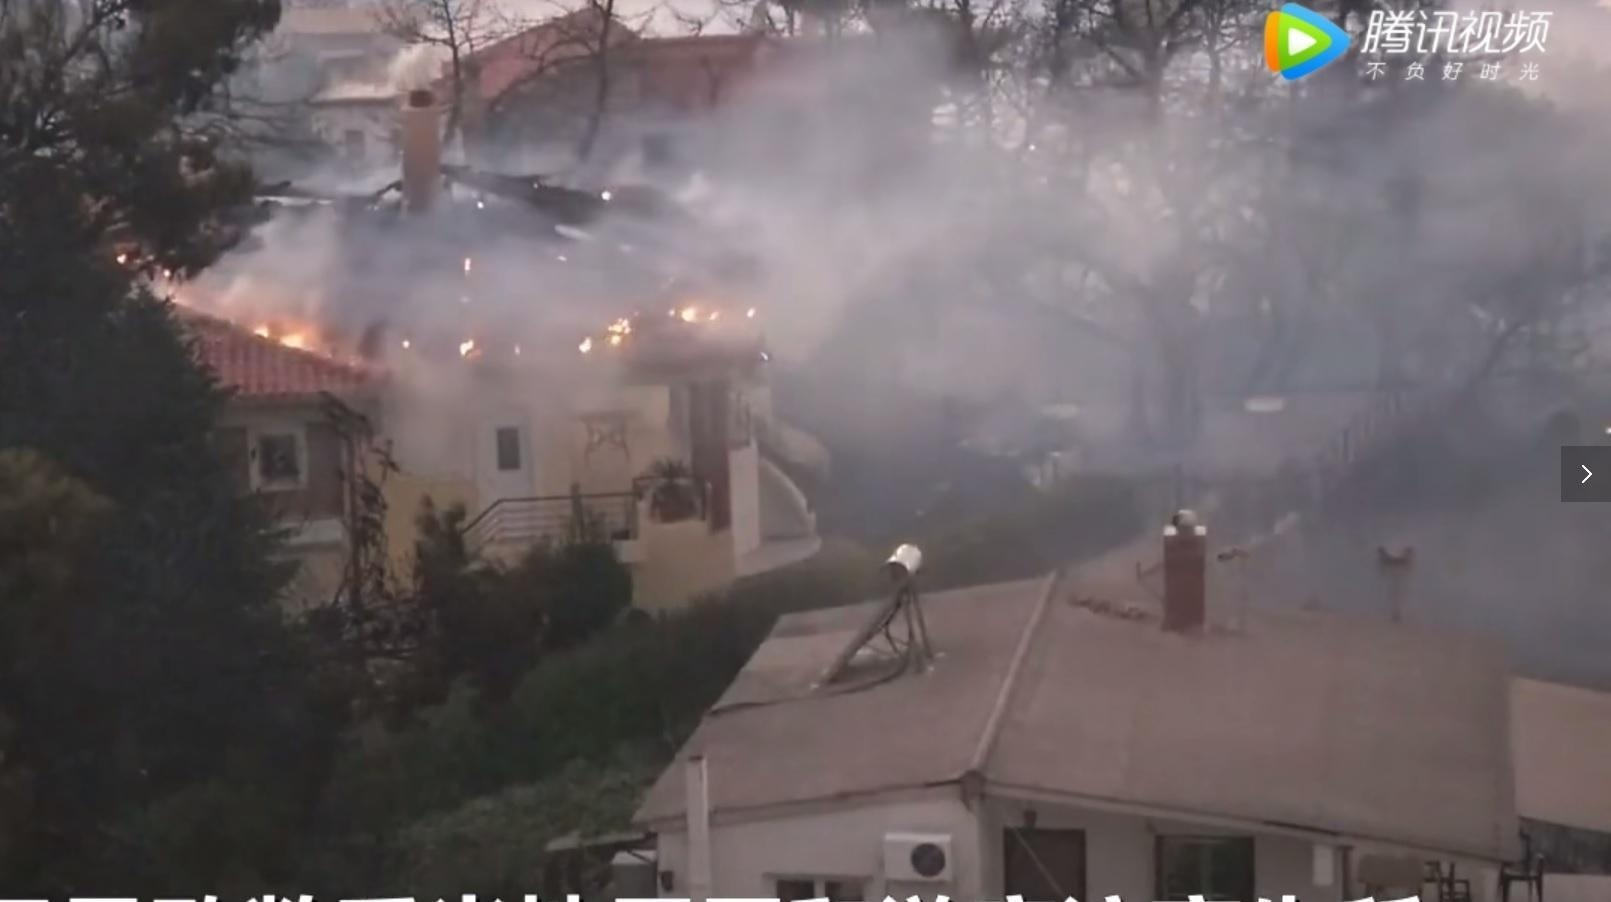fire: (250, 311, 323, 356)
